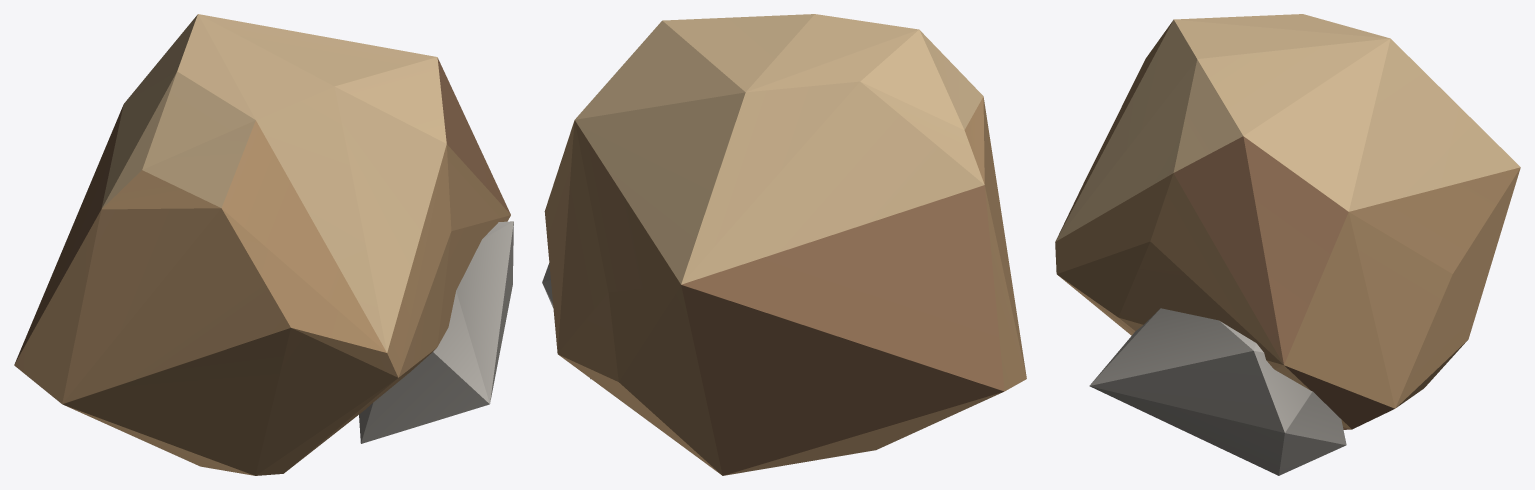
Rendered from ore_chunk.glb.
3 views of the same model, side by side, from view 1: azimuth 30°, elevation 25°; view 2: azimuth 150°, elevation 25°; view 3: azimuth 270°, elevation 25° (orthographic). The views are drawn at different scales.
Bounding box in the file's own units: 0.2625 × 0.2034 × 0.2348.
